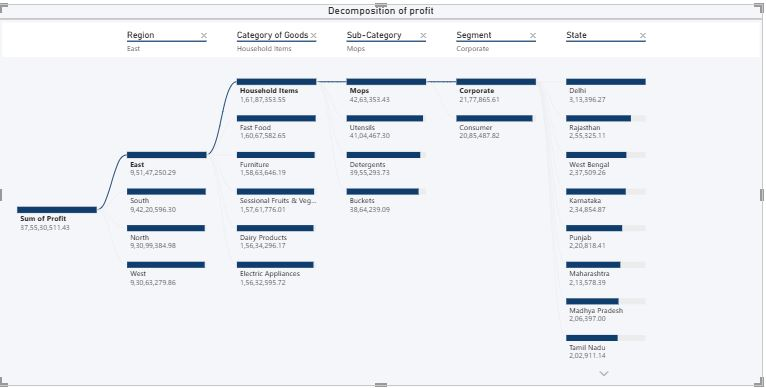

The page's visual inventory and layout, read from the dashboard file:
{"tool":"powerbi","page":{"name":"Page 2","canvas":[1280,720],"ordinal":2},"visuals":[{"type":"decompositionTreeVisual","title":"Decomposition of profit","fields":{"Analyze":["Sum(store_sales_data (2) (1).Profit)"],"ExplainBy":["store_sales_data (2) (1).Region","store_sales_data (2) (1).Category of Goods","store_sales_data (2) (1).Sub-Category","store_sales_data (2) (1).Segment","store_sales_data (2) (1).State"]},"box":[0,57.1,1252.4,627],"z":0}]}

Visuals, with their boxes on the page's 1280x720 design canvas (x1, y1, x2, y2). These are canvas units, not pixel positions in the 766x388 screenshot, which may show the page scaled, cropped or inside an application window:
"Decomposition of profit" decompositionTreeVisual: [0, 57, 1252, 684]
